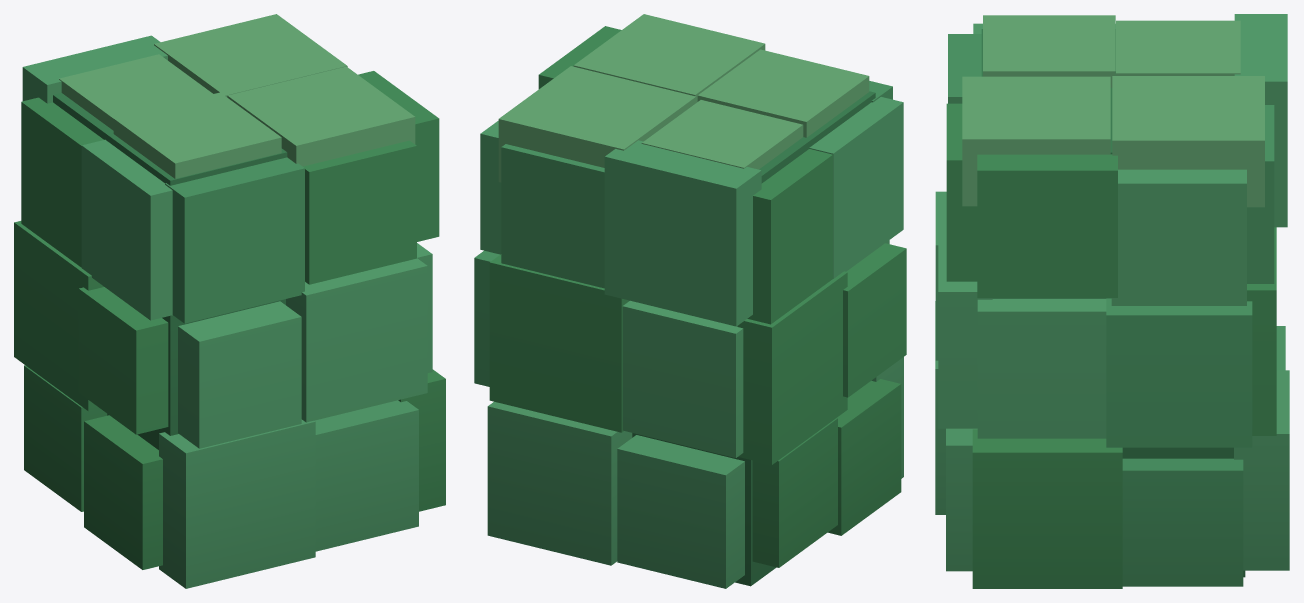
The model's file is hedge-post-h1.6.glb.
3 renders of one model, left to right at view 1: azimuth 30°, elevation 25°; view 2: azimuth 150°, elevation 25°; view 3: azimuth 270°, elevation 25°, orthographic. The views are drawn at different scales.
Parts seen in each view (by area): view 1: hedge-post-h1.6_body; view 2: hedge-post-h1.6_body; view 3: hedge-post-h1.6_body.
Boxes of the visible parts, x1,y1,x2,y2 form: hedge-post-h1.6_body: (14,14,445,588); hedge-post-h1.6_body: (474,14,906,588); hedge-post-h1.6_body: (935,14,1289,588).
Size of the model in its own units: 1.29 by 1.66 by 1.21.
